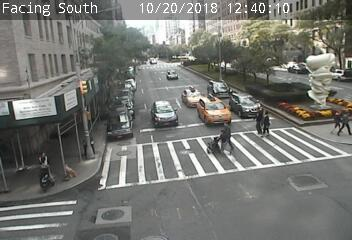car: (199, 100, 232, 125), (231, 94, 261, 119), (151, 100, 179, 126), (207, 79, 232, 98), (182, 89, 203, 106), (166, 70, 178, 78)
